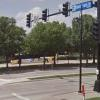Traffic light: (20, 2, 75, 33)
